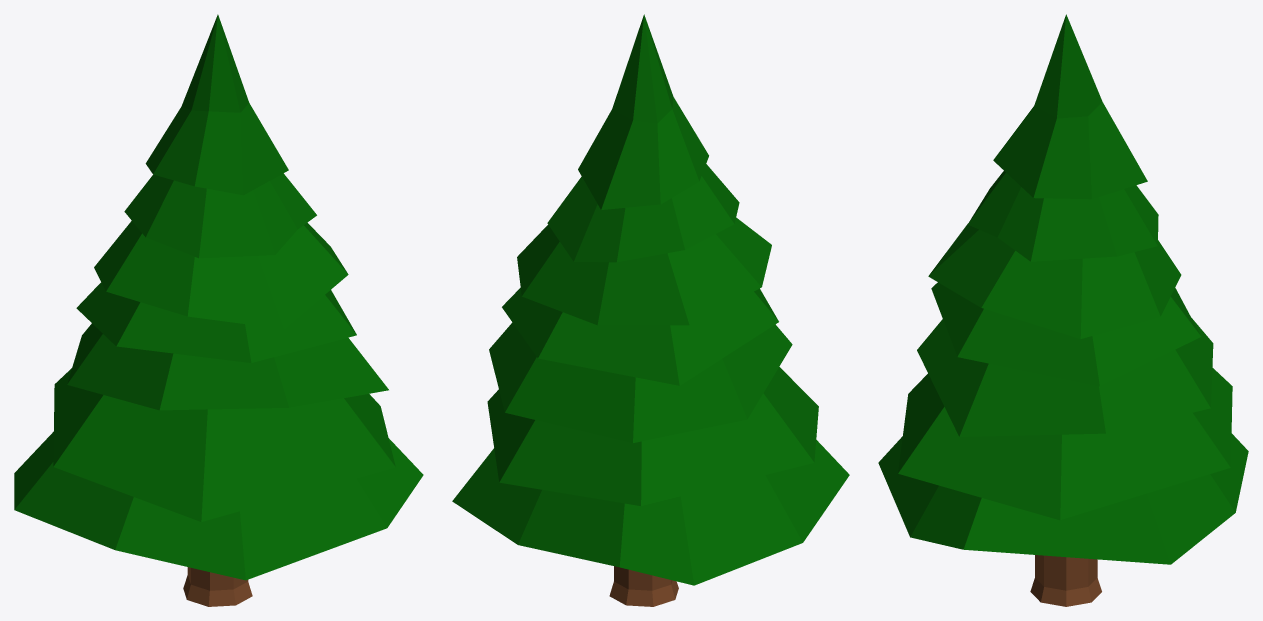
File: Pine Tree.fbx
The picture shows the model from 3 angles, left to right: view 1: azimuth 30°, elevation 25°; view 2: azimuth 150°, elevation 25°; view 3: azimuth 270°, elevation 25°; orthographic projection.
Visible parts, largest first — view 1: Cylinder; view 2: Cylinder; view 3: Cylinder.
Boxes of the visible parts, x1,y1,x2,y2 form: Cylinder: (14,14,423,606); Cylinder: (452,14,849,606); Cylinder: (878,14,1248,606).
Bounding box in the file's own units: 2.47 × 4 × 2.32.
